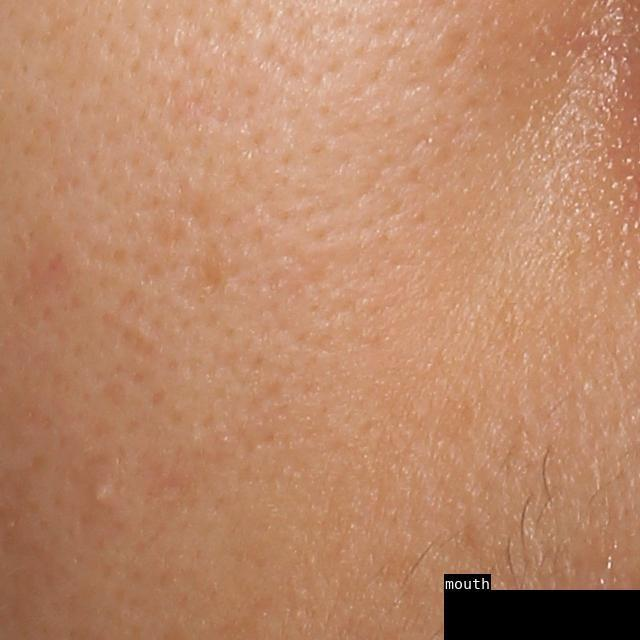atrophic_scar: (97, 314, 156, 360), (438, 27, 466, 72)
comedo: (86, 480, 114, 514)
